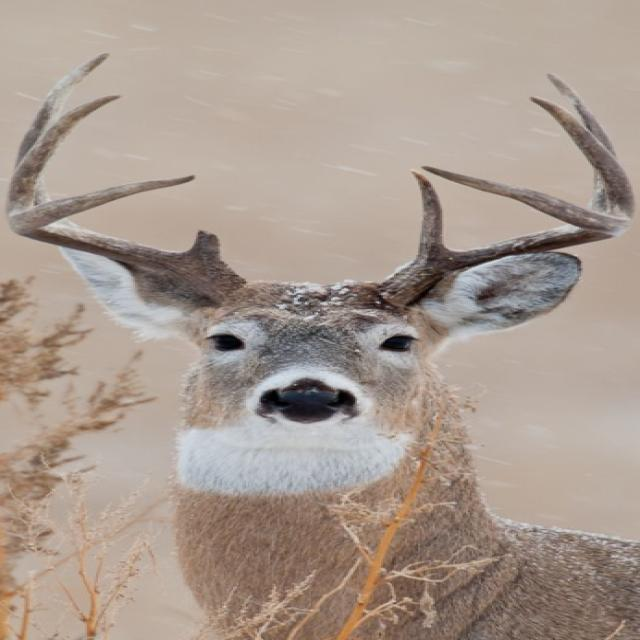L-F: (372, 165, 633, 309)
L-G1: (409, 168, 451, 257)
L-G3: (528, 95, 635, 219)
R-F: (8, 175, 249, 305)
R-G1: (185, 230, 221, 260)
R-G3: (4, 94, 123, 221)
